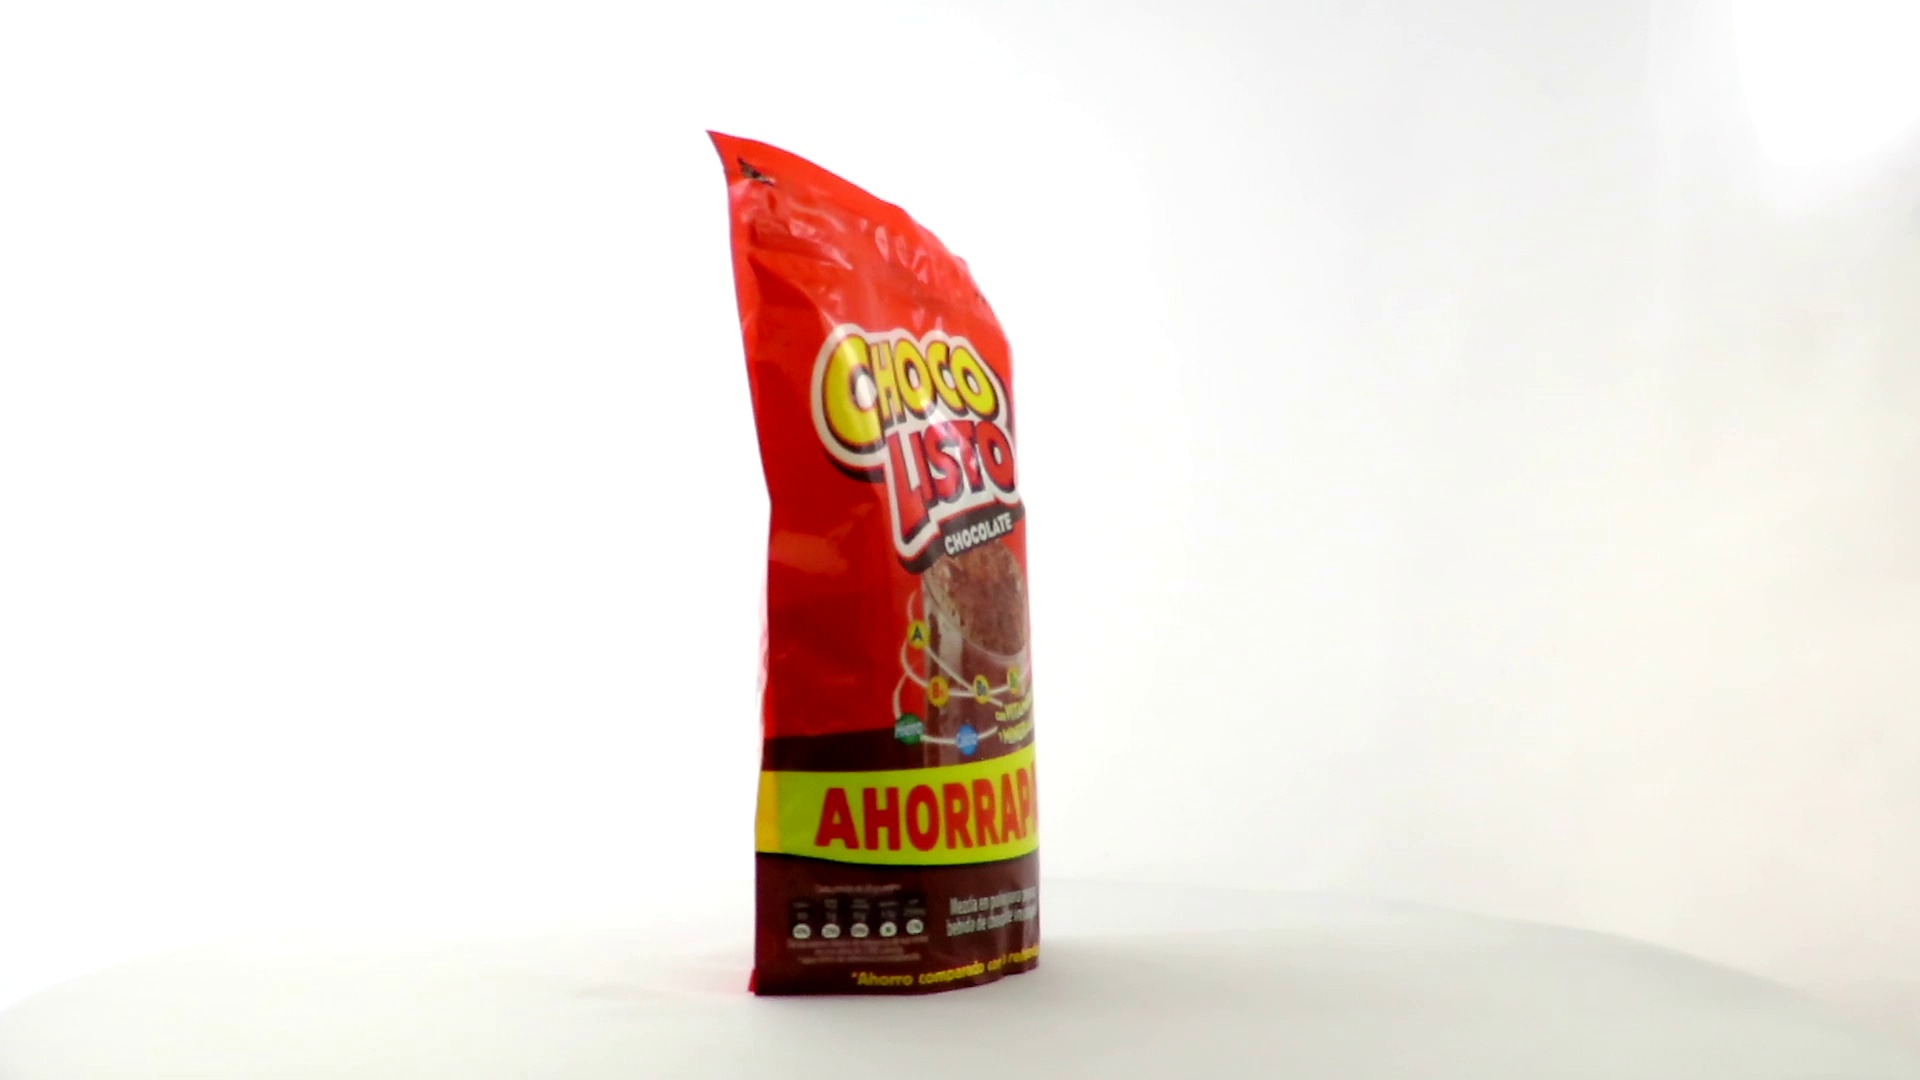COL0170103DYP36000: (700, 125, 1047, 1004)
